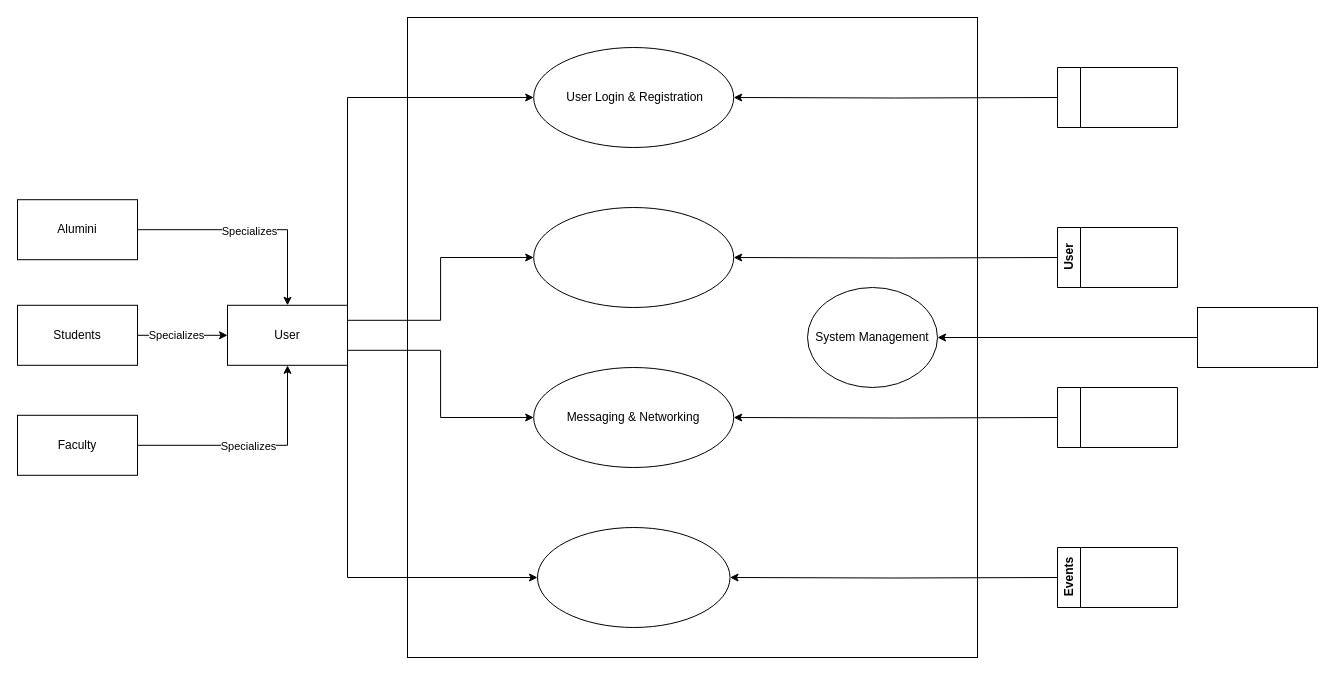
The diagram is 1335 pixels wide and 675 high, and some of its shapes have lost their labels. The shapes that lost their labels are listed below. From the top down, each one's box as (x1, y1, x2, y2) in pixels, then its label:
(1056, 66, 1178, 128): System
(533, 206, 734, 308): Profile Management
(1196, 306, 1318, 368): Admin
(1056, 386, 1178, 448): Messages
(536, 526, 730, 628): Event Management
